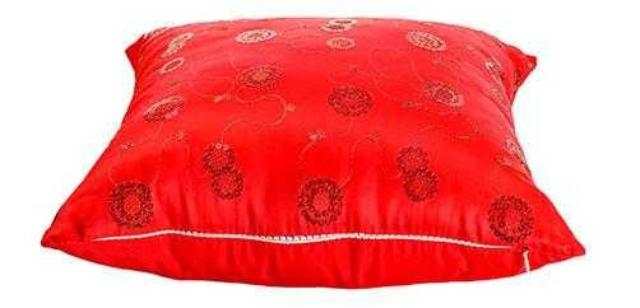pillow: (40, 15, 586, 289)
